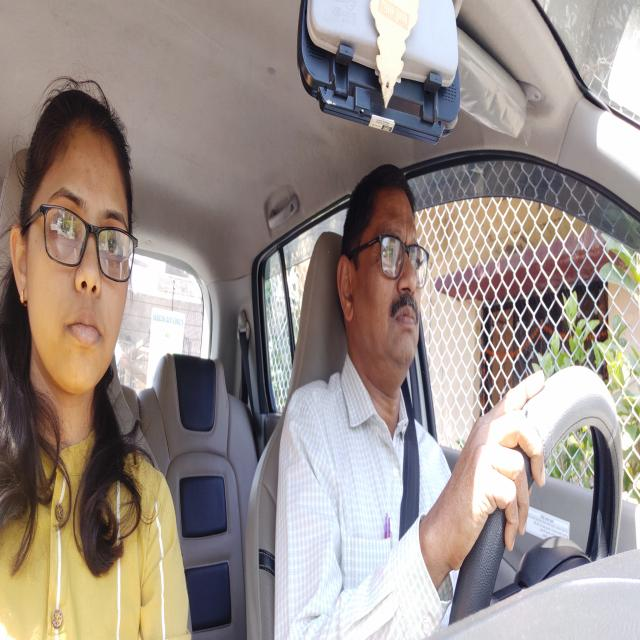person: (9, 73, 141, 414), (336, 155, 439, 386)
